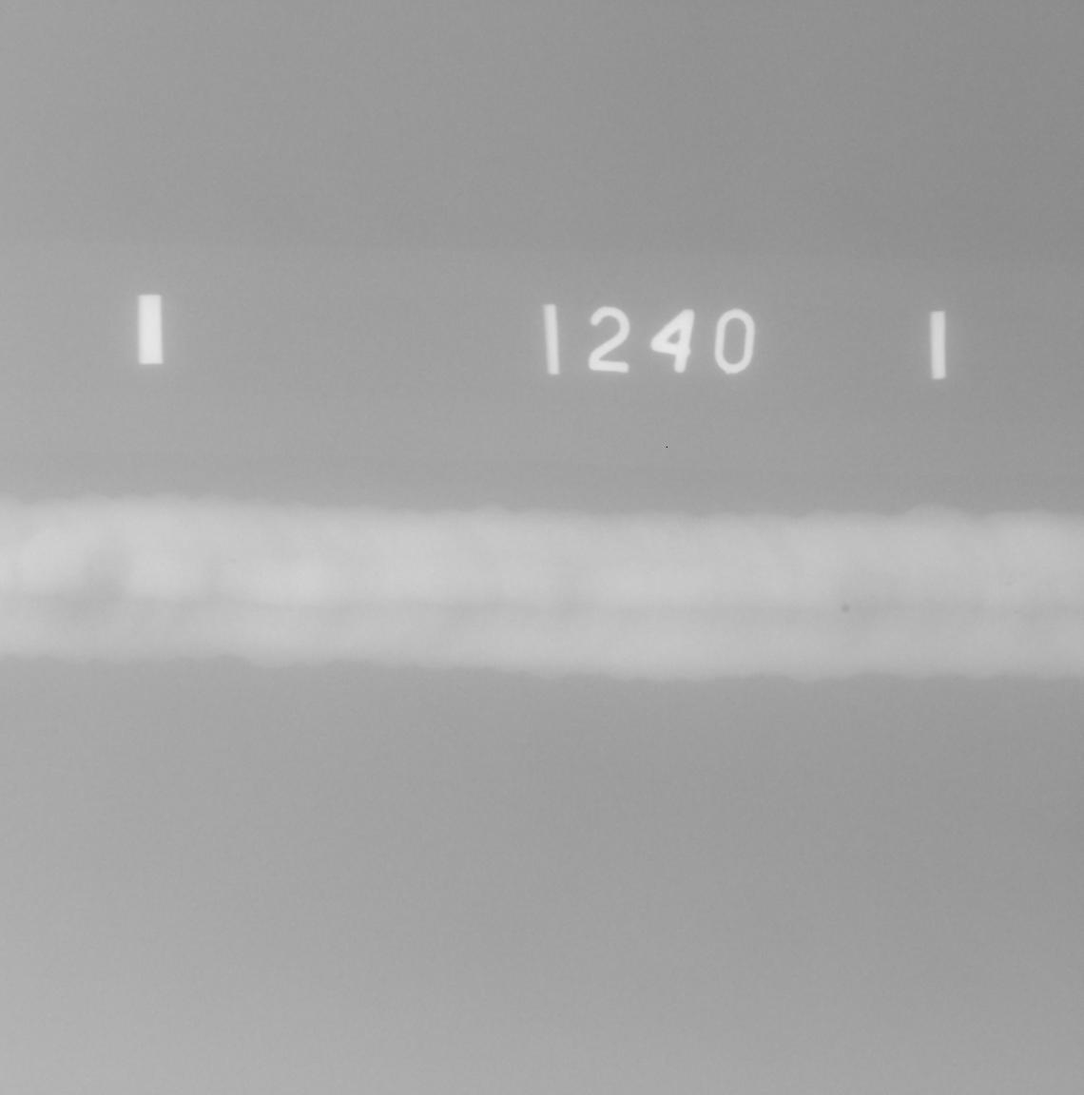Pore/Porosity: (842, 605, 848, 612), (230, 559, 235, 563), (1006, 583, 1010, 586), (1022, 574, 1025, 577), (1009, 576, 1012, 579), (1047, 584, 1050, 587), (1014, 612, 1017, 614)
